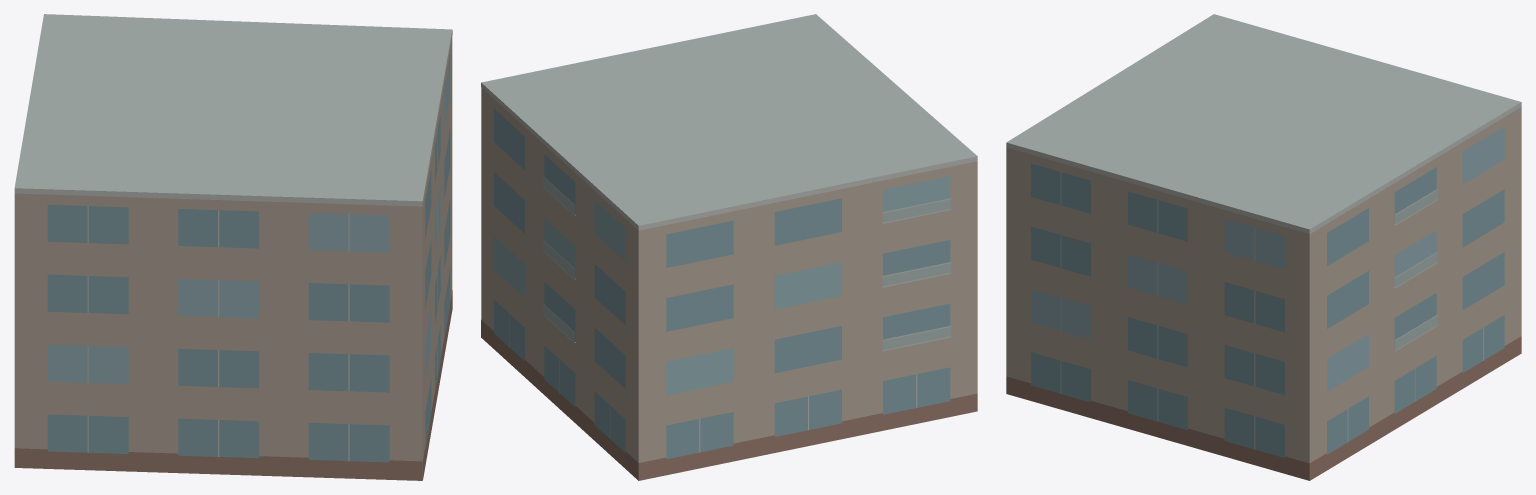
File: survey-upis-32678045.glb
The picture shows the model from 3 angles, left to right: view 1: azimuth 30°, elevation 25°; view 2: azimuth 150°, elevation 25°; view 3: azimuth 270°, elevation 25°; orthographic projection. The views are drawn at different scales.
Parts seen in each view (by area): view 1: survey-upis-32678045.tmp; view 2: survey-upis-32678045.tmp; view 3: survey-upis-32678045.tmp.
Boxes of the visible parts, bbox=[...] form: survey-upis-32678045.tmp: bbox=[14, 14, 452, 480]; survey-upis-32678045.tmp: bbox=[481, 14, 977, 480]; survey-upis-32678045.tmp: bbox=[1006, 14, 1521, 480].
Size of the model in its own units: 23.54 by 12.8 by 23.79.
